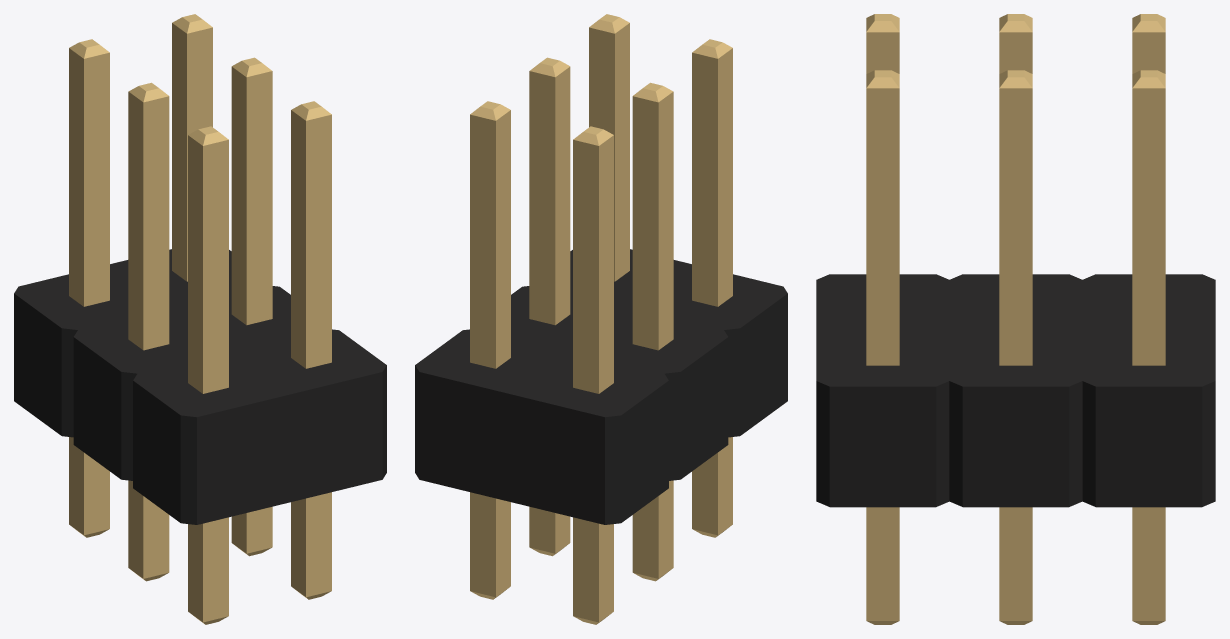
Rendered from pinheader_2x03_p2_54mm_vertical.glb.
3 renders of one model, left to right at view 1: azimuth 30°, elevation 25°; view 2: azimuth 150°, elevation 25°; view 3: azimuth 270°, elevation 25°, orthographic. The views are drawn at different scales.
Parts seen in each view (by area): view 1: conn_header_2x03, pin_5, pin_6, pin_3, pin_1, pin_4; view 2: conn_header_2x03, pin_1, pin_2, pin_3, pin_5, pin_4; view 3: conn_header_2x03, pin_2, pin_4, pin_6.
Boxes of the visible parts, x1,y1,x2,y2 form: conn_header_2x03: [14, 14, 386, 524]; pin_5: [188, 517, 228, 624]; pin_6: [291, 492, 331, 599]; pin_3: [128, 480, 169, 581]; pin_1: [69, 437, 109, 537]; pin_4: [231, 506, 272, 556]; conn_header_2x03: [415, 14, 787, 524]; pin_1: [573, 517, 613, 624]; pin_2: [470, 492, 510, 599]; pin_3: [632, 480, 673, 581]; pin_5: [692, 437, 732, 537]; pin_4: [529, 506, 570, 556]; conn_header_2x03: [816, 14, 1215, 507]; pin_2: [1132, 507, 1165, 624]; pin_4: [999, 507, 1032, 624]; pin_6: [866, 507, 899, 624].
Size of the model in its own units: 0.00508 by 0.0115 by 0.00762.
